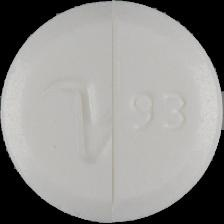0603-5338: (0, 0, 224, 224)
